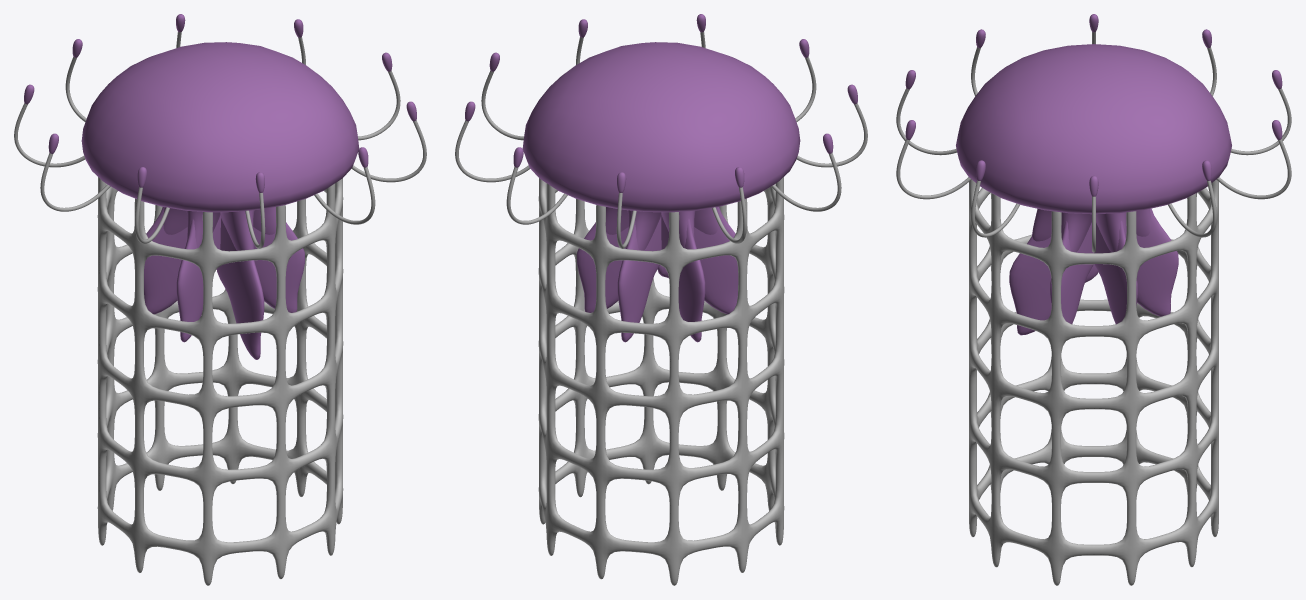
Rendered from BLOCKOUT_Jellyfisj.fbx.
3 renders of one model, left to right at view 1: azimuth 30°, elevation 25°; view 2: azimuth 150°, elevation 25°; view 3: azimuth 270°, elevation 25°, orthographic.
Visible parts, largest first — view 1: Ladder, Cap, Tentacles, Tendrils, Dots; view 2: Ladder, Cap, Tentacles, Tendrils, Dots; view 3: Ladder, Cap, Tentacles, Tendrils, Dots.
Part boxes in pixels (x1,y1,x2,y2): Ladder: [97, 177, 343, 585]; Cap: [81, 42, 359, 212]; Tentacles: [144, 207, 304, 359]; Tendrils: [14, 32, 426, 248]; Dots: [24, 14, 416, 192]; Ladder: [538, 177, 784, 585]; Cap: [522, 42, 800, 212]; Tentacles: [577, 207, 738, 342]; Tendrils: [455, 32, 867, 248]; Dots: [465, 14, 857, 192]; Ladder: [969, 179, 1218, 585]; Cap: [956, 44, 1231, 214]; Tentacles: [1009, 208, 1178, 335]; Tendrils: [896, 32, 1291, 252]; Dots: [905, 14, 1282, 196].
Bounding box in the file's own units: 3.86 × 4.87 × 3.68.
